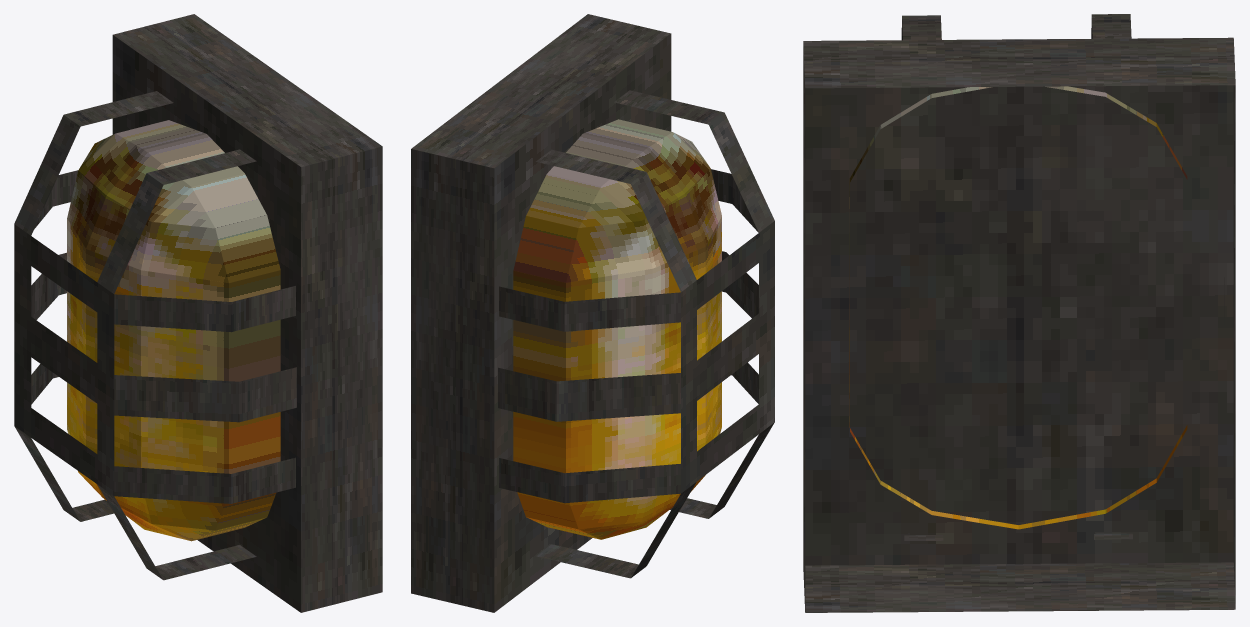
The model's file is wallLight.glb.
3 views of the same model, side by side, from view 1: azimuth 30°, elevation 25°; view 2: azimuth 150°, elevation 25°; view 3: azimuth 270°, elevation 25° (orthographic). The views are drawn at different scales.
Visible parts, largest first — view 1: light; view 2: light; view 3: light.
Boxes of the visible parts, <box> form: light: <box>14,14,382,612</box>; light: <box>411,14,774,612</box>; light: <box>803,14,1235,612</box>.
Size of the model in its own units: 0.1815 by 0.3347 by 0.2501.
Materials: 1 (1 with a texture image).
